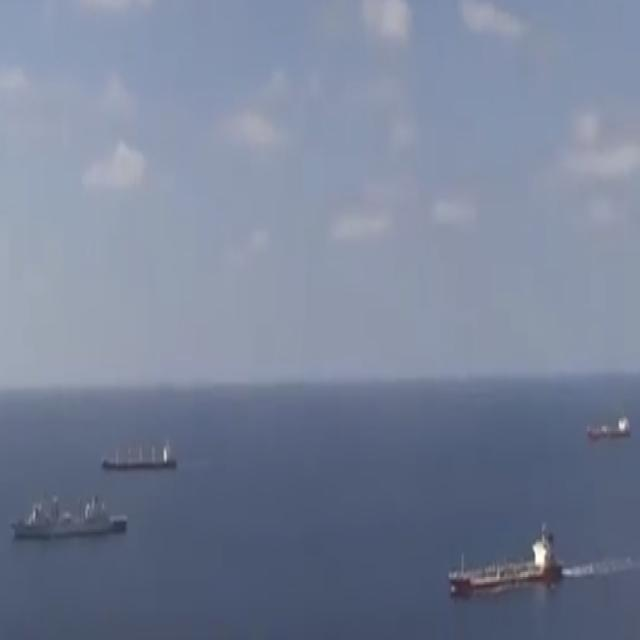cargoship: (446, 522, 564, 600), (105, 434, 182, 472), (580, 408, 637, 445)
navalvessels: (6, 492, 130, 545)
